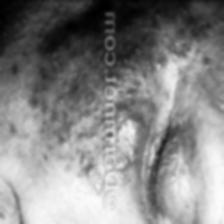Non-Cancerous Skin Condition: (37, 40, 99, 196), (121, 0, 212, 82), (120, 90, 140, 160)
